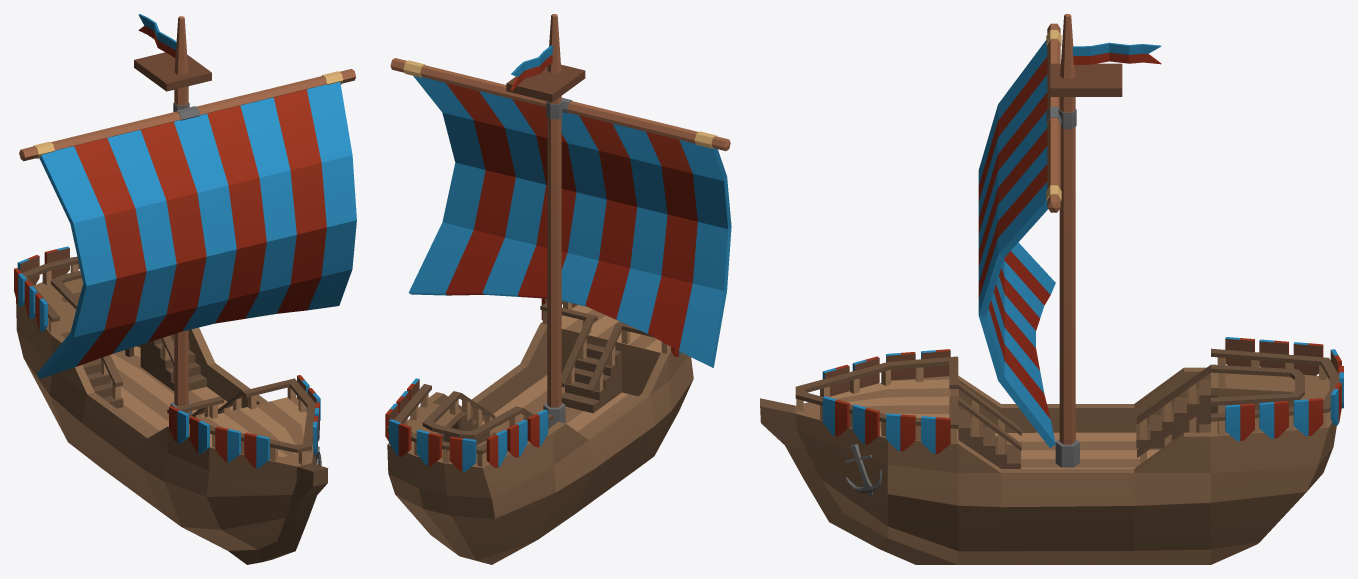
File: ship-medium-4.glb
3 views of the same model, side by side, from view 1: azimuth 30°, elevation 25°; view 2: azimuth 150°, elevation 25°; view 3: azimuth 270°, elevation 25° (orthographic). The views are drawn at different scales.
Visible parts, largest first — view 1: ship medium 4; view 2: ship medium 4; view 3: ship medium 4.
Part boxes in pixels (box(x1,y1,x2,y2)): ship medium 4: box(14, 14, 356, 564); ship medium 4: box(385, 14, 731, 564); ship medium 4: box(760, 14, 1343, 564).
Bounding box in the file's own units: 18.43 × 26.21 × 25.24.
1 material, 1 textured.
